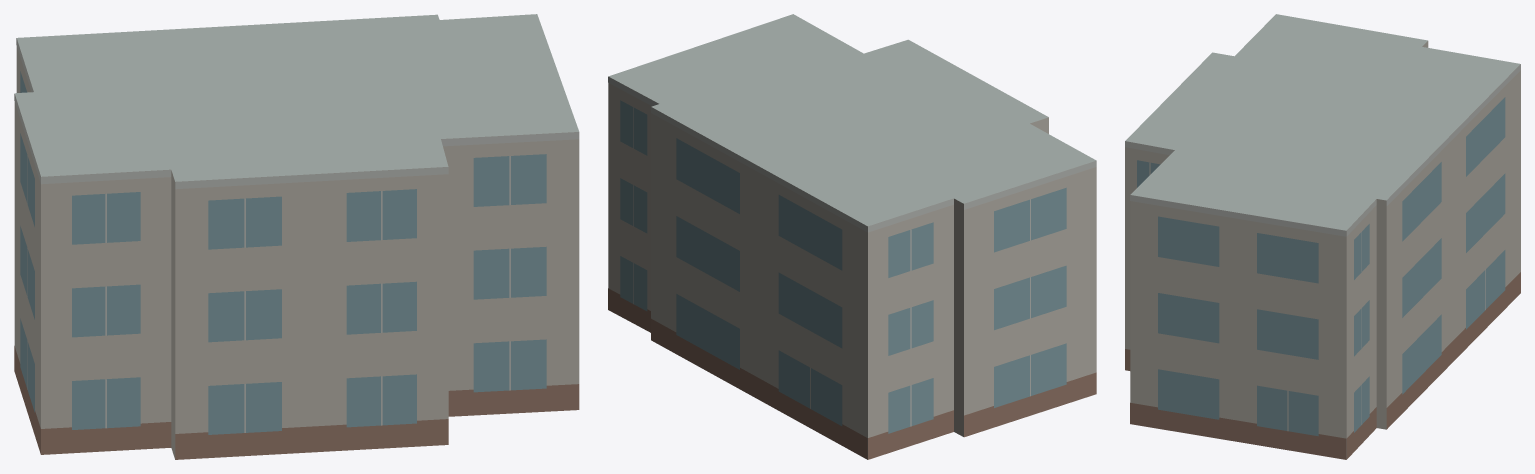
Rendered from survey-upis-32780171.glb.
The picture shows the model from 3 angles, left to right: view 1: azimuth 30°, elevation 25°; view 2: azimuth 150°, elevation 25°; view 3: azimuth 270°, elevation 25°; orthographic projection. The views are drawn at different scales.
Parts seen in each view (by area): view 1: survey-upis-32780171.tmp; view 2: survey-upis-32780171.tmp; view 3: survey-upis-32780171.tmp.
Part boxes in pixels (bbox=[...]): survey-upis-32780171.tmp: bbox=[14, 14, 579, 459]; survey-upis-32780171.tmp: bbox=[608, 14, 1096, 459]; survey-upis-32780171.tmp: bbox=[1125, 14, 1520, 459].
Bounding box in the file's own units: 18.57 × 9.15 × 14.33.
